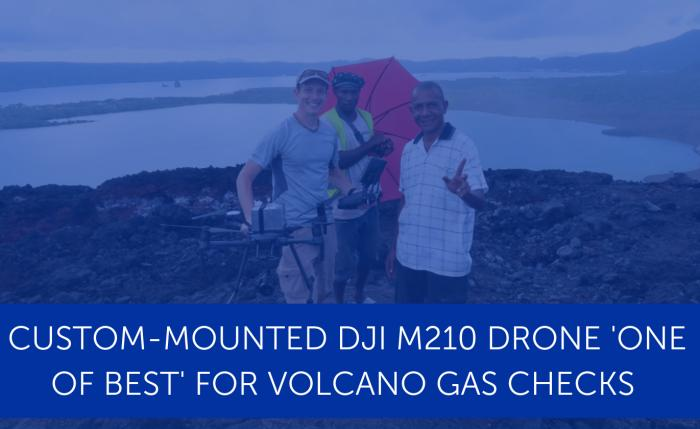drone: (174, 199, 343, 261)
